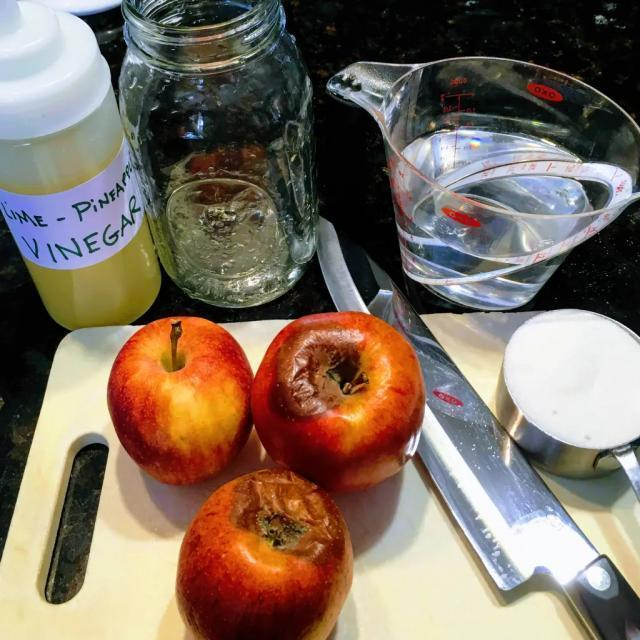Apple: (251, 310, 426, 494), (174, 468, 354, 640), (106, 315, 254, 486)
